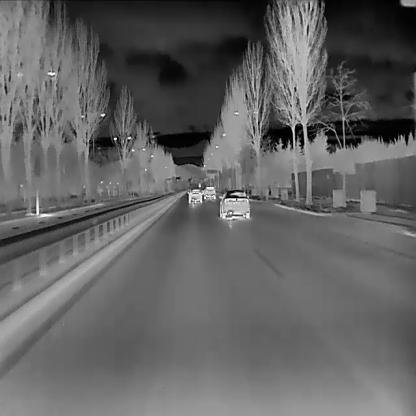car: (218, 188, 250, 219), (186, 186, 202, 203), (203, 185, 216, 199)
